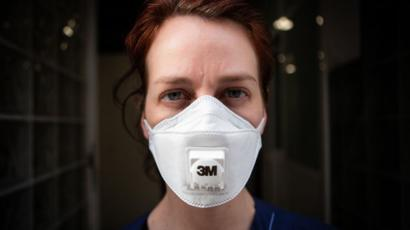with_mask: (113, 13, 299, 230)
